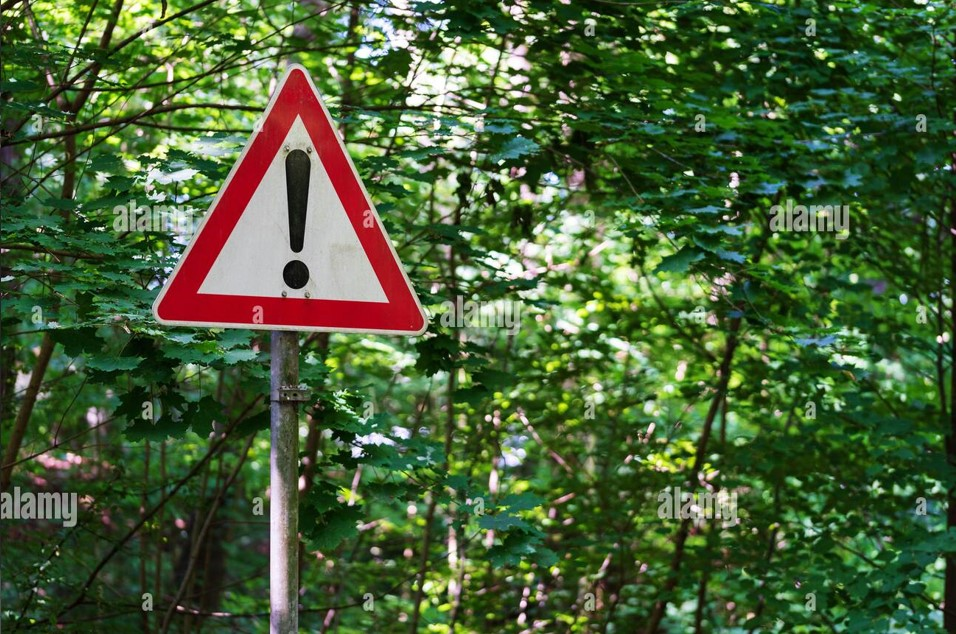Danger: (151, 64, 431, 342)
